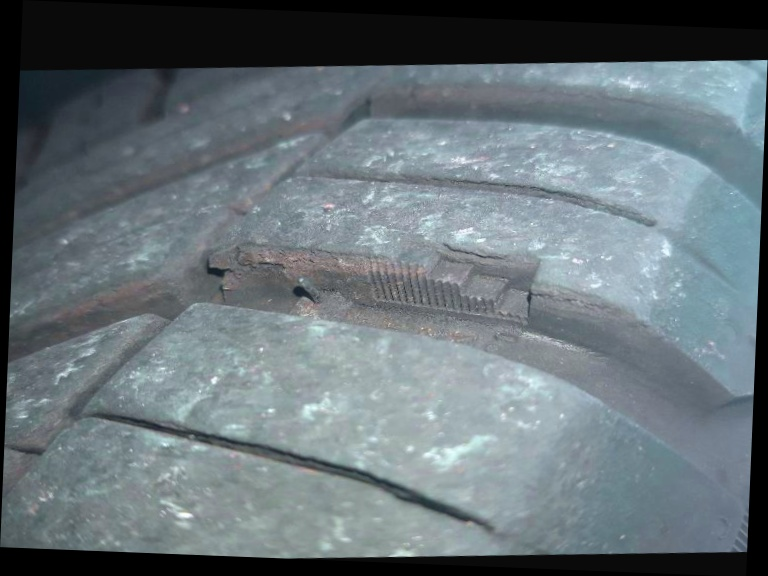temoin:80: (351, 215, 557, 341)
